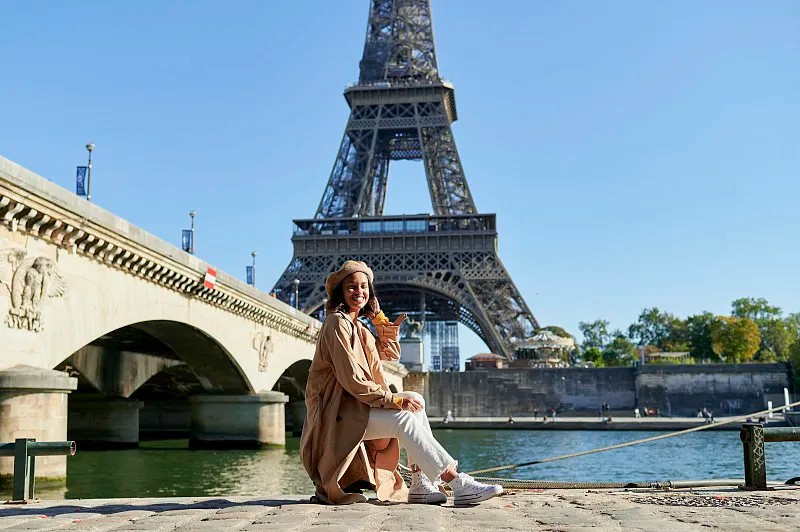Eiffel: (267, 1, 557, 367)
